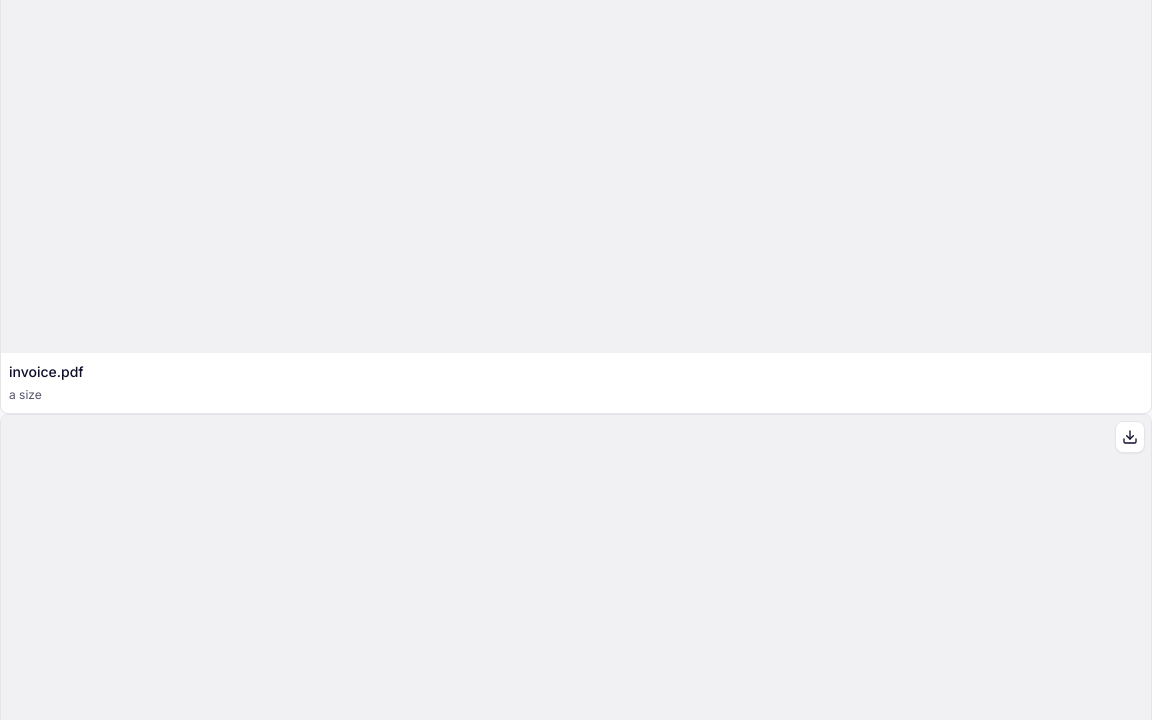
it: AttachmentViewer › shows a PDF’s large page, and its preview for a PDF drawn before pages
Later steps or results of the test are not shown.
(page scrolled)
Click the button with aria-label "Open invoice.pdf".
click(46, 372)  # box [9,361,1143,383]
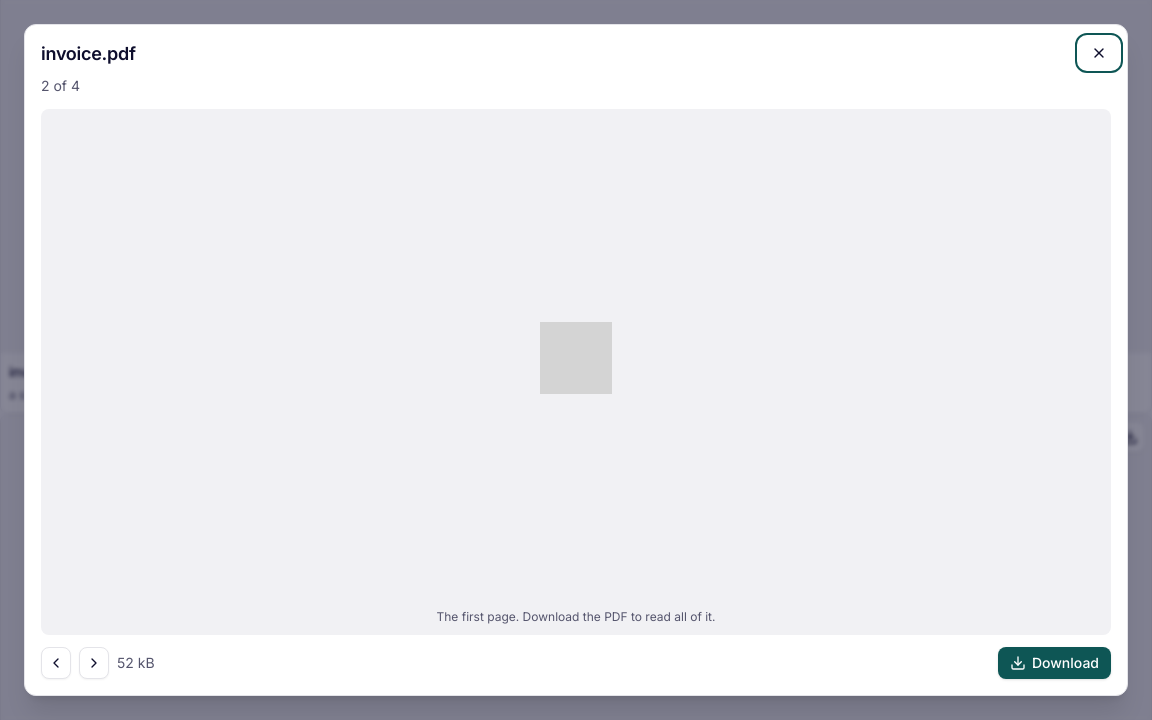
Expected: the text "The first page. Download the PDF to read all of it." is shown, [436,607,716,627]
